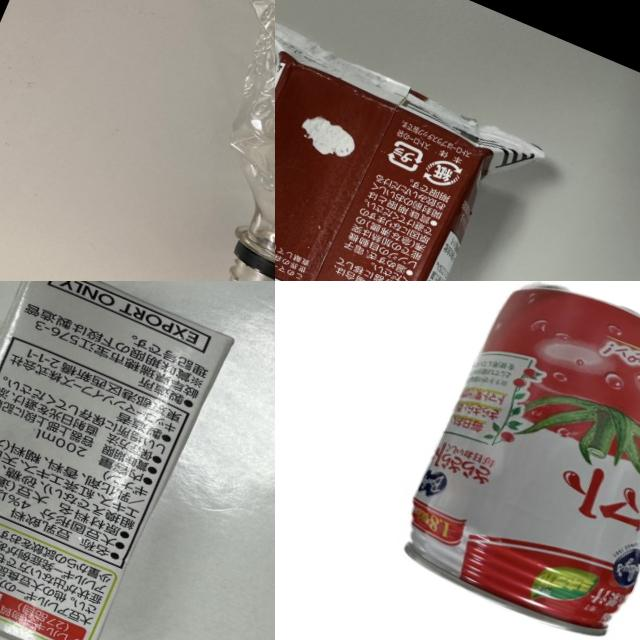Aluminium Foil: (0, 281, 244, 640), (275, 9, 542, 281)
Can: (380, 281, 640, 640)
Transparent Plastic Bottle: (83, 0, 275, 281)
